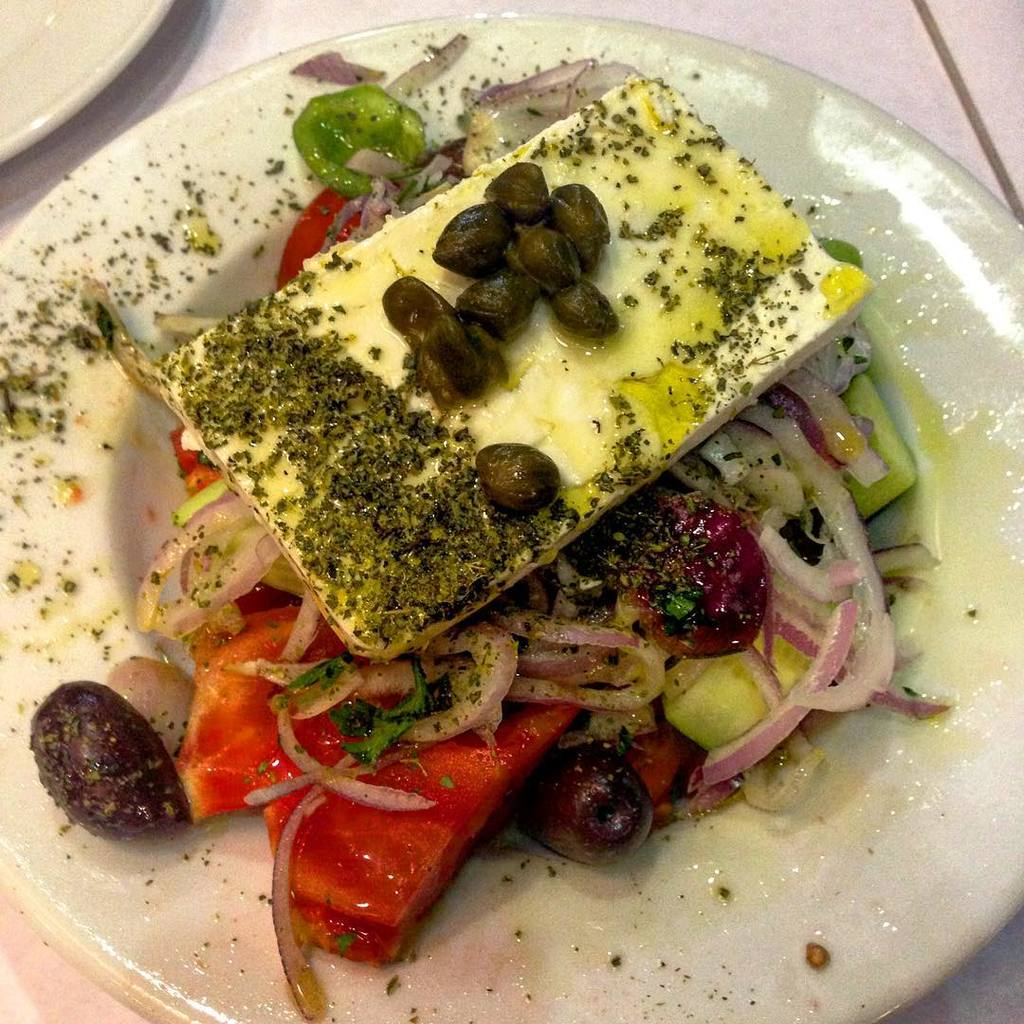salad: (6, 46, 1018, 970)
